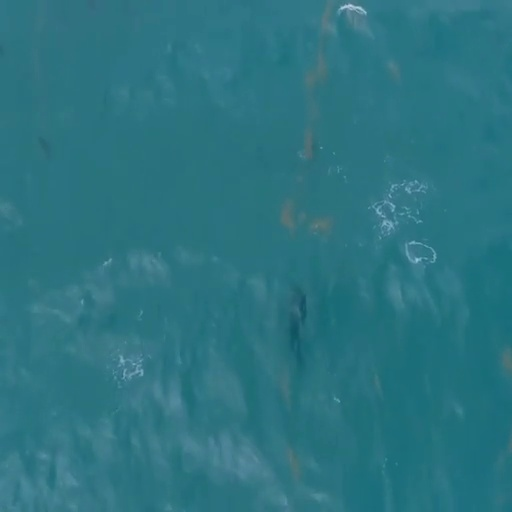shark: (281, 283, 310, 369)
